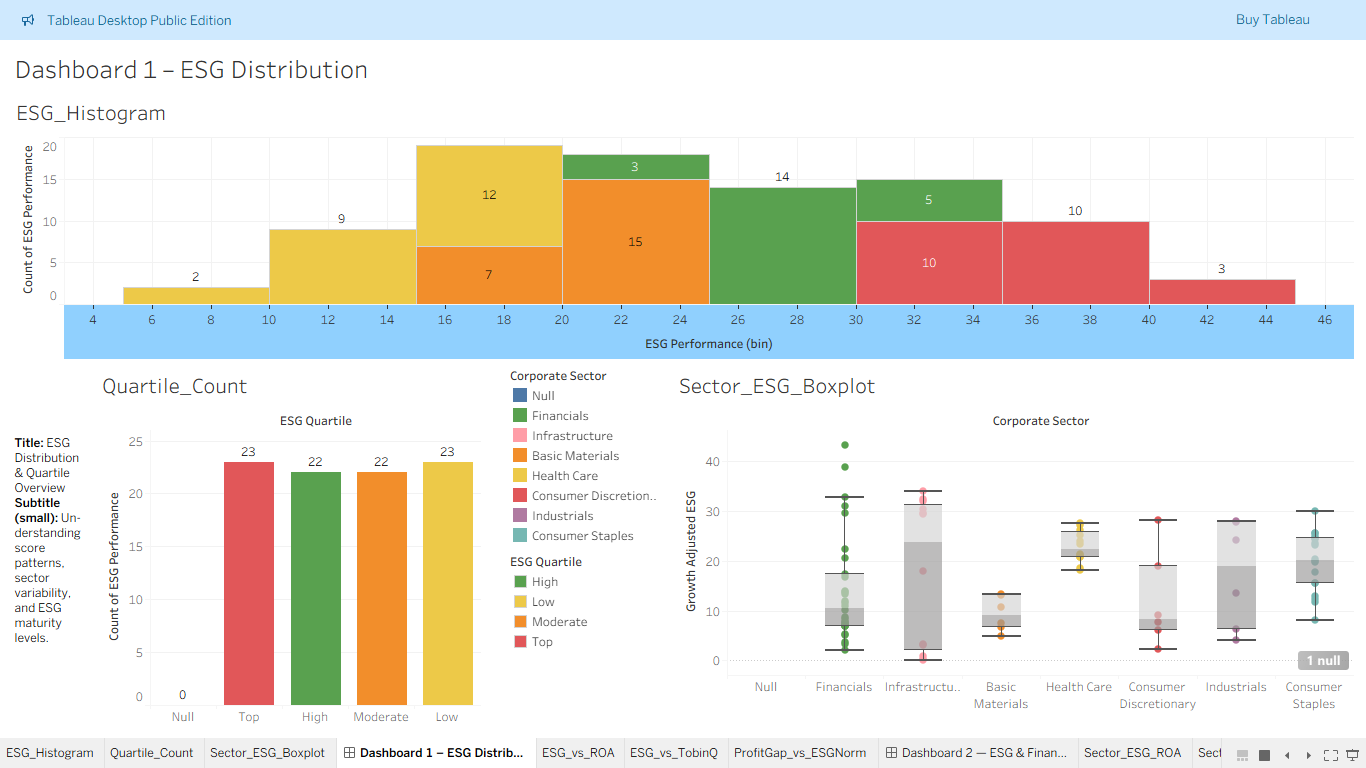

This screenshot's page, from the dashboard's own definition file:
{"tool":"tableau","page":{"name":"Dashboard 1 – ESG Distribution","canvas":[1000,1000],"units":"permille","ordinal":0},"visuals":[{"type":"title","box":[6.9,14.5,986.1,76.1]},{"type":"worksheet","title":"ESG_Histogram","mark":"Bar","rows":["ESG Performance"],"cols":["ESG Performance (bin)"],"box":[6.9,90.6,986.1,362.3]},{"type":"text","box":[6.9,452.9,74.5,532.6]},{"type":"worksheet","title":"Quartile_Count","mark":"Bar","rows":["ESG Performance"],"cols":["ESG_Quartile"],"box":[81.4,452.9,338.5,532.6]},{"type":"legend","title":"Sector_ESG_Boxplot","param":"[federated.0hu7oe619kb1w21domjt50td3igt].[none:Corporate Sector:nk]","box":[438.1,452.9,142.9,336.9]},{"type":"worksheet","title":"Sector_ESG_Boxplot","mark":"Circle","rows":["Growth_Adjusted_ESG"],"cols":["Corporate Sector"],"box":[581,452.9,412.1,532.6]},{"type":"legend","title":"ESG_Histogram","param":"[federated.0hu7oe619kb1w21domjt50td3igt].[none:ESG_Quartile:ok]","box":[438.1,789.8,142.9,192]}]}

Visuals, with their boxes on the dashboard's canvas, which has no fixed pixel size, in thousandths of its width and height (x1, y1, x2, y2). These are canvas units, not pixel positions in the 1366x768 screenshot, which may show the page scaled, cropped or inside an application window:
title: 7, 14, 993, 91
"ESG_Histogram" worksheet (Bar marks): 7, 91, 993, 453
text: 7, 453, 81, 986
"Quartile_Count" worksheet (Bar marks): 81, 453, 420, 986
"Sector_ESG_Boxplot" legend: 438, 453, 581, 790
"Sector_ESG_Boxplot" worksheet (Circle marks): 581, 453, 993, 986
"ESG_Histogram" legend: 438, 790, 581, 982
